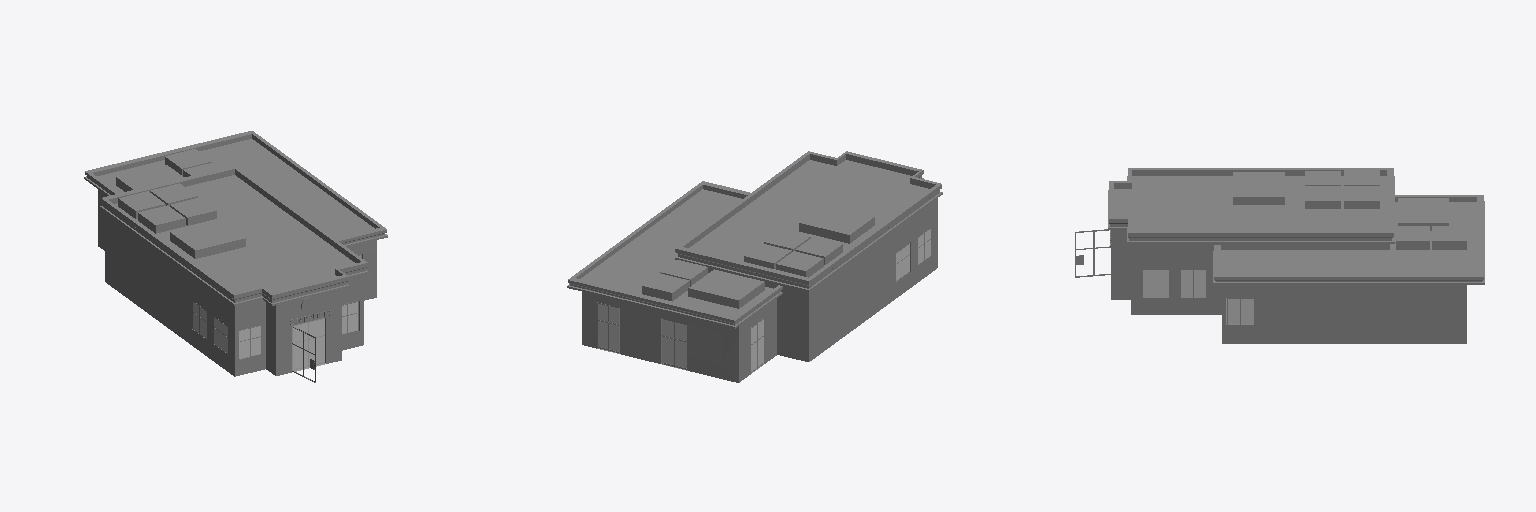
File: star.obj
The picture shows the model from 3 angles: view 1: azimuth 30°, elevation 25°; view 2: azimuth 150°, elevation 25°; view 3: azimuth 270°, elevation 25°; orthographic projection.
Visible parts, largest first — view 1: Cube, Cube_001, Cube_002_Cube_005, Plane_016_Plane_019, Cube_005_Cube_004, Cube_004_Cube_002, Cube_003_Cube_006, Cube_010_Cube_014, Cube_009_Cube_013, Plane_045_Plane_048; view 2: Cube_001, Cube, Cube_002_Cube_005, Plane_016_Plane_019, Cube_010_Cube_014, Cube_005_Cube_004, Cube_009_Cube_013, Cube_003_Cube_006, Cube_004_Cube_002, Plane_045_Plane_048; view 3: Cube_001, Cube, Cube_002_Cube_005, Plane_016_Plane_019, Cube_005_Cube_004, Cube_009_Cube_013, Cube_010_Cube_014, Cube_003_Cube_006, Cube_004_Cube_002, Plane_045_Plane_048.
Part boxes in pixels (x1,y1,x2,y2): Cube: (100,165,368,305); Cube_001: (98,190,376,376); Cube_002_Cube_005: (84,131,387,246); Plane_016_Plane_019: (193,256,360,369); Cube_005_Cube_004: (170,220,245,258); Cube_004_Cube_002: (138,198,216,233); Cube_003_Cube_006: (118,183,197,218); Cube_010_Cube_014: (116,165,183,191); Cube_009_Cube_013: (165,149,220,176); Plane_045_Plane_048: (192,255,361,382); Cube_001: (582,198,937,382); Cube: (675,151,942,291); Cube_002_Cube_005: (567,181,782,328); Plane_016_Plane_019: (598,229,930,370); Cube_010_Cube_014: (688,269,764,308); Cube_005_Cube_004: (799,204,874,243); Cube_009_Cube_013: (642,260,707,301); Cube_003_Cube_006: (744,243,823,277); Cube_004_Cube_002: (764,229,842,264); Plane_045_Plane_048: (597,227,931,372); Cube_001: (1111,230,1466,343); Cube: (1108,168,1394,243); Cube_002_Cube_005: (1213,195,1484,284); Plane_016_Plane_019: (1143,270,1253,323); Cube_005_Cube_004: (1233,172,1284,204); Cube_009_Cube_013: (1396,226,1466,249); Cube_010_Cube_014: (1398,198,1448,230); Cube_003_Cube_006: (1344,170,1379,208); Cube_004_Cube_002: (1305,171,1340,208); Plane_045_Plane_048: (1075,229,1254,324).
Size of the model in its own units: 34.33 by 14.35 by 61.91.